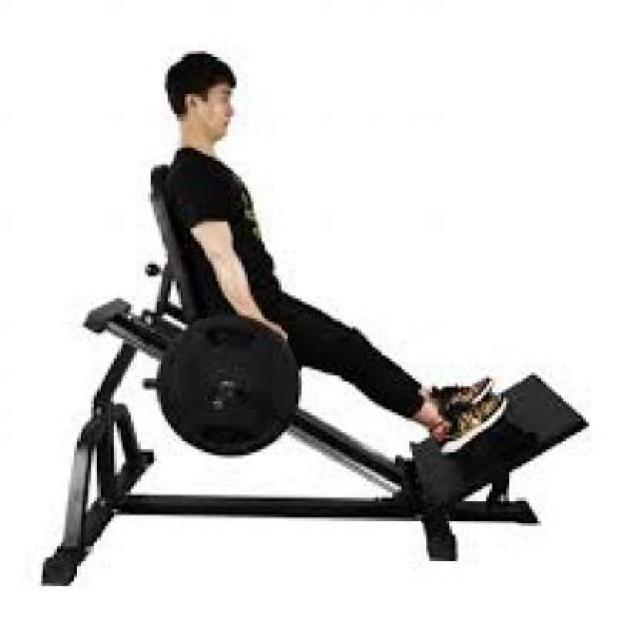leg press: (40, 36, 598, 578)
